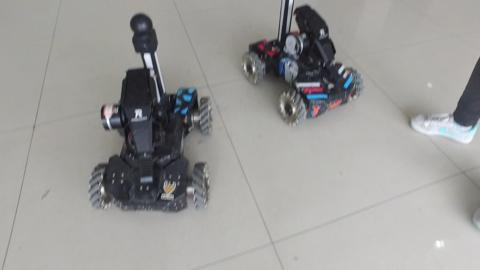chariot: (84, 12, 219, 216), (240, 1, 368, 128)
